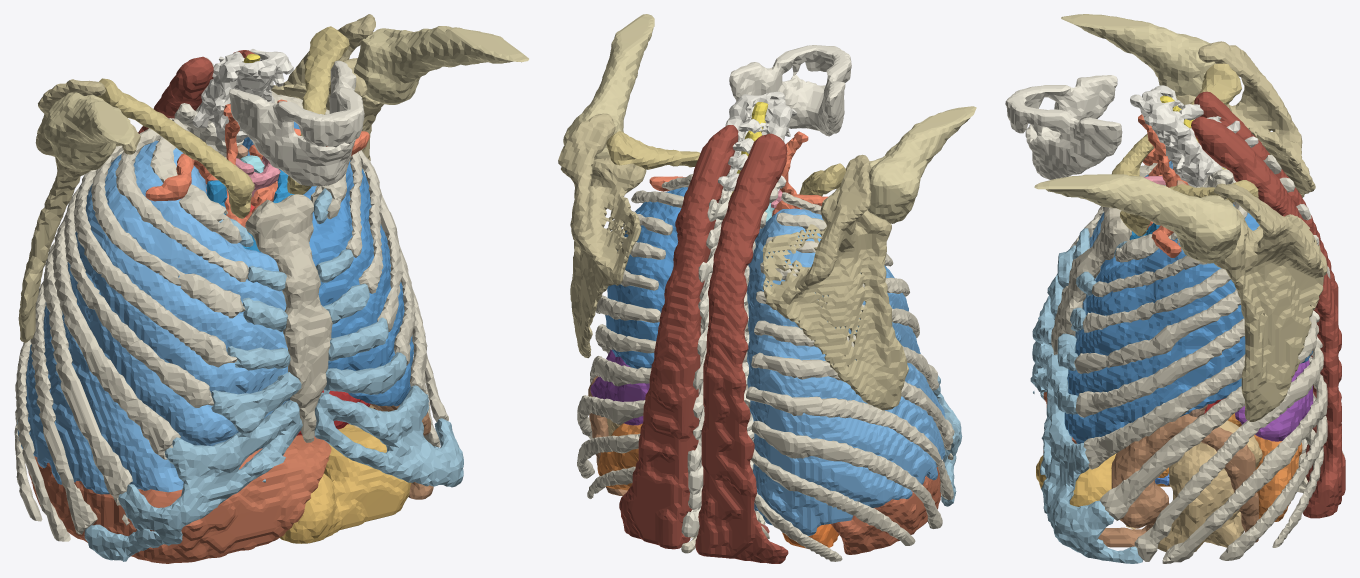
File: torax.glb
3 views of the same model, side by side, from view 1: azimuth 30°, elevation 25°; view 2: azimuth 150°, elevation 25°; view 3: azimuth 270°, elevation 25° (orthographic). The views are drawn at different scales.
Parts seen in each view (by area): view 1: structure_33, structure_14, structure_34, structure_1, structure_38, structure_35, structure_45, structure_15, structure_37, structure_36, structure_4, structure_28 (+6 smaller); view 2: structure_41, structure_37, structure_33, structure_14, structure_38, structure_45, structure_15, structure_29, structure_1, structure_28, structure_36, structure_3 (+5 smaller); view 3: structure_33, structure_37, structure_15, structure_38, structure_34, structure_41, structure_45, structure_8, structure_7, structure_28, structure_36, structure_35 (+5 smaller).
Boxes of the visible parts, bbox=[...] form: structure_33: bbox=[14, 91, 448, 541]; structure_14: bbox=[17, 140, 289, 494]; structure_34: bbox=[84, 188, 463, 561]; structure_1: bbox=[28, 435, 331, 563]; structure_38: bbox=[43, 26, 528, 170]; structure_35: bbox=[245, 194, 332, 442]; structure_45: bbox=[229, 60, 364, 186]; structure_15: bbox=[242, 122, 413, 406]; structure_37: bbox=[18, 14, 383, 342]; structure_36: bbox=[97, 26, 349, 218]; structure_4: bbox=[279, 424, 411, 543]; structure_28: bbox=[192, 49, 293, 142]; structure_41: bbox=[619, 125, 788, 563]; structure_37: bbox=[558, 113, 908, 410]; structure_33: bbox=[577, 174, 954, 561]; structure_14: bbox=[747, 208, 945, 535]; structure_38: bbox=[563, 14, 976, 223]; structure_45: bbox=[729, 45, 851, 136]; structure_15: bbox=[605, 187, 688, 368]; structure_29: bbox=[681, 182, 780, 537]; structure_1: bbox=[831, 467, 940, 554]; structure_28: bbox=[718, 91, 796, 191]; structure_36: bbox=[606, 131, 845, 196]; structure_3: bbox=[590, 349, 649, 425]; structure_33: bbox=[1070, 160, 1327, 563]; structure_37: bbox=[1176, 41, 1327, 421]; structure_15: bbox=[1064, 204, 1312, 443]; structure_38: bbox=[1034, 14, 1240, 263]; structure_34: bbox=[1030, 228, 1142, 563]; structure_41: bbox=[1191, 91, 1345, 518]; structure_45: bbox=[1005, 75, 1122, 179]; structure_8: bbox=[1098, 414, 1258, 547]; structure_7: bbox=[1126, 420, 1262, 552]; structure_28: bbox=[1130, 85, 1258, 187]; structure_36: bbox=[1112, 63, 1258, 236]; structure_35: bbox=[1051, 207, 1131, 354].
Bounding box in the file's own units: 357 × 361 × 283.
